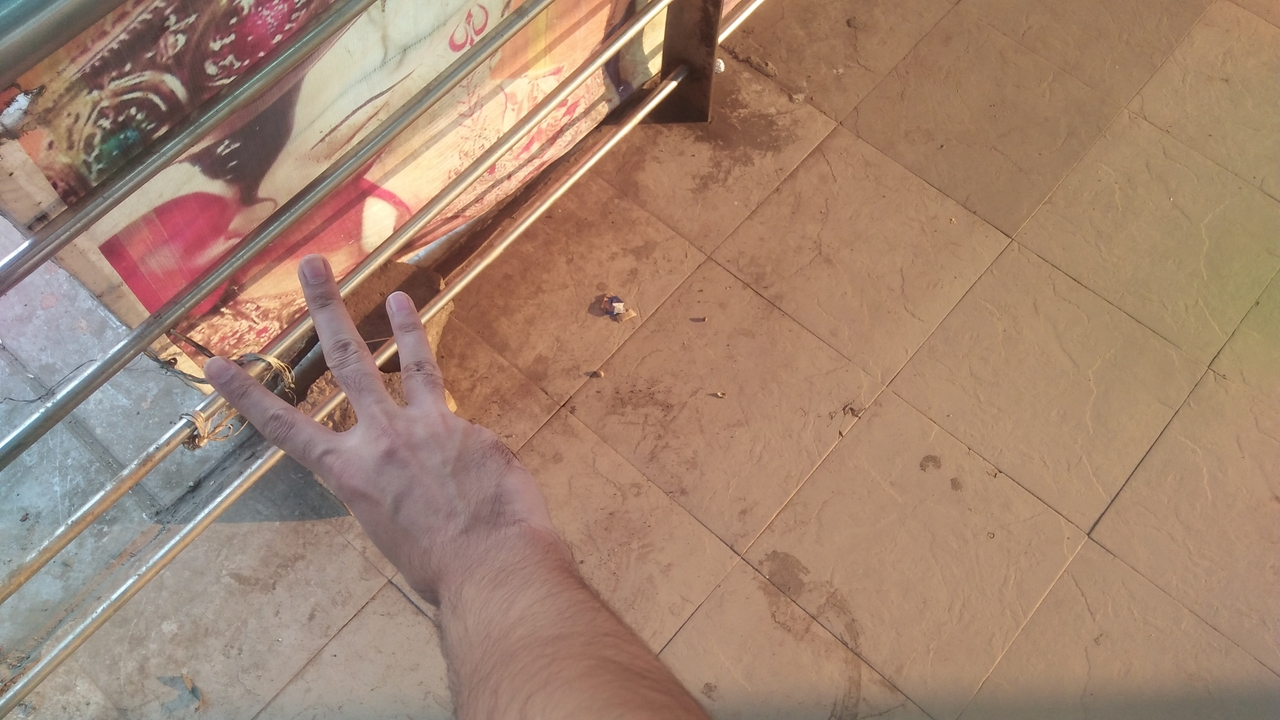fingertip: (286, 246, 340, 298), (372, 284, 424, 328), (195, 348, 246, 391)
